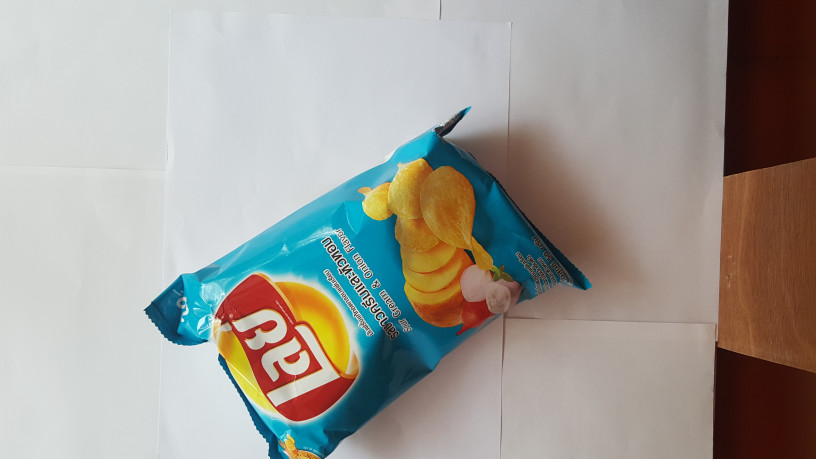lays-onion: (136, 103, 599, 458)
